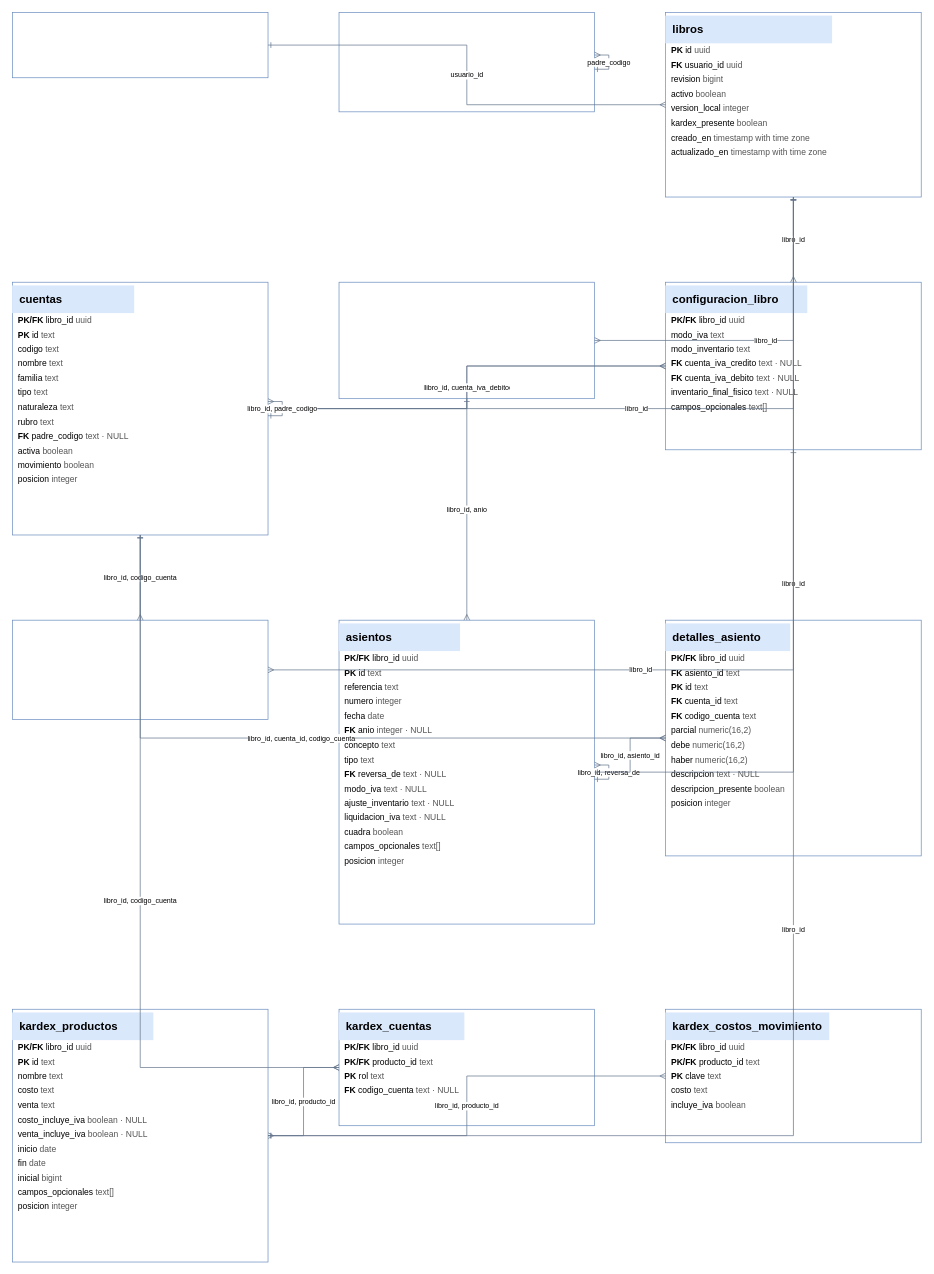
The diagram is 934 pixels wide and 1274 high, and some of its shapes have lost their labels. The shapes that lost their labels are listed below. From the top down, each one's box as (x1, y1, x2, y2) in pixels, then its label:
(12, 12, 268, 78): users Supabase Auth · referencia PK id uuid
(338, 12, 595, 112): catalogo_base PK codigo text nombre text FK padre_codigo text · NULL
(338, 282, 595, 399): periodos PK/FK libro_id uuid PK anio integer cerrado boolean posicion integer
(12, 619, 268, 720): cuentas_reporte PK/FK libro_id uuid PK rol text FK codigo_cuenta text · NULL
